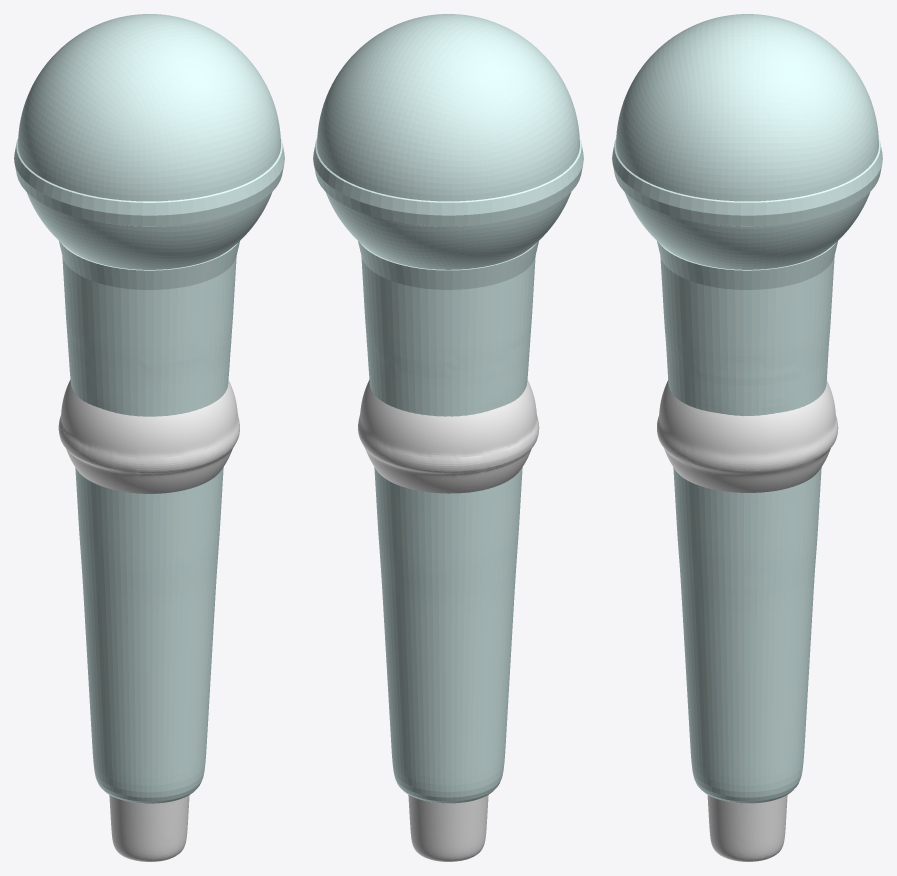
File: mic.glb
3 renders of one model, left to right at view 1: azimuth 30°, elevation 25°; view 2: azimuth 150°, elevation 25°; view 3: azimuth 270°, elevation 25°, orthographic.
Parts seen in each view (by area): view 1: Cylinder (×3), Quad Sphere, Quad Sphere 1; view 2: Cylinder (×3), Quad Sphere, Quad Sphere 1; view 3: Cylinder (×3), Quad Sphere, Quad Sphere 1.
Boxes of the visible parts, x1=… form: Cylinder (×3): x1=14, y1=138, x2=284, y2=803; Quad Sphere: x1=18, y1=14, x2=280, y2=269; Quad Sphere 1: x1=58, y1=380, x2=239, y2=861; Cylinder (×3): x1=313, y1=138, x2=583, y2=803; Quad Sphere: x1=317, y1=14, x2=579, y2=269; Quad Sphere 1: x1=358, y1=379, x2=539, y2=861; Cylinder (×3): x1=612, y1=138, x2=882, y2=803; Quad Sphere: x1=616, y1=14, x2=878, y2=269; Quad Sphere 1: x1=657, y1=380, x2=838, y2=861.
Bounding box in the file's own units: 1.53 × 5.13 × 1.53.
